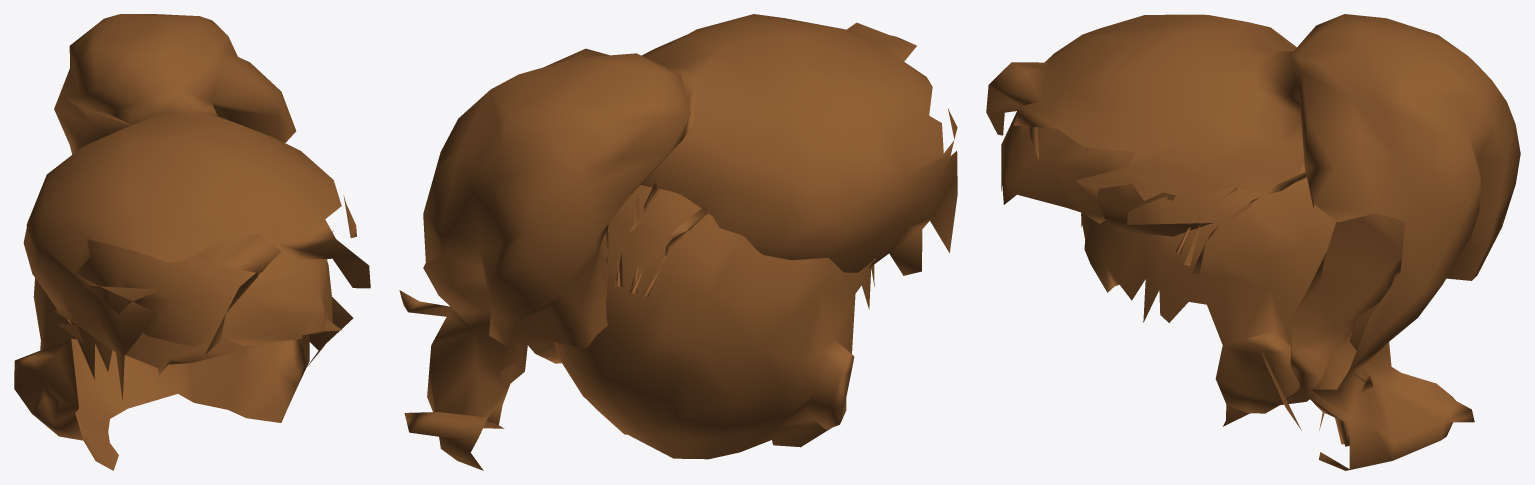
File: high-ponytail.glb
The picture shows the model from 3 angles, left to right: view 1: azimuth 30°, elevation 25°; view 2: azimuth 150°, elevation 25°; view 3: azimuth 270°, elevation 25°; orthographic projection. The views are drawn at different scales.
Visible parts, largest first — view 1: Hair, HairScalp; view 2: Hair, HairScalp, HairPulledRootStrands; view 3: Hair, HairScalp, HairPulledRootStrands.
Boxes of the visible parts, x1,y1,x2,y2 form: Hair: (23,14,370,399); HairScalp: (14,262,342,470); Hair: (399,14,957,470); HairScalp: (528,185,874,459); HairPulledRootStrands: (603,182,709,296); Hair: (986,14,1520,470); HairScalp: (1081,163,1399,426); HairPulledRootStrands: (1166,172,1306,274).
Bounding box in the file's own units: 0.6052 × 0.561 × 0.7212.
